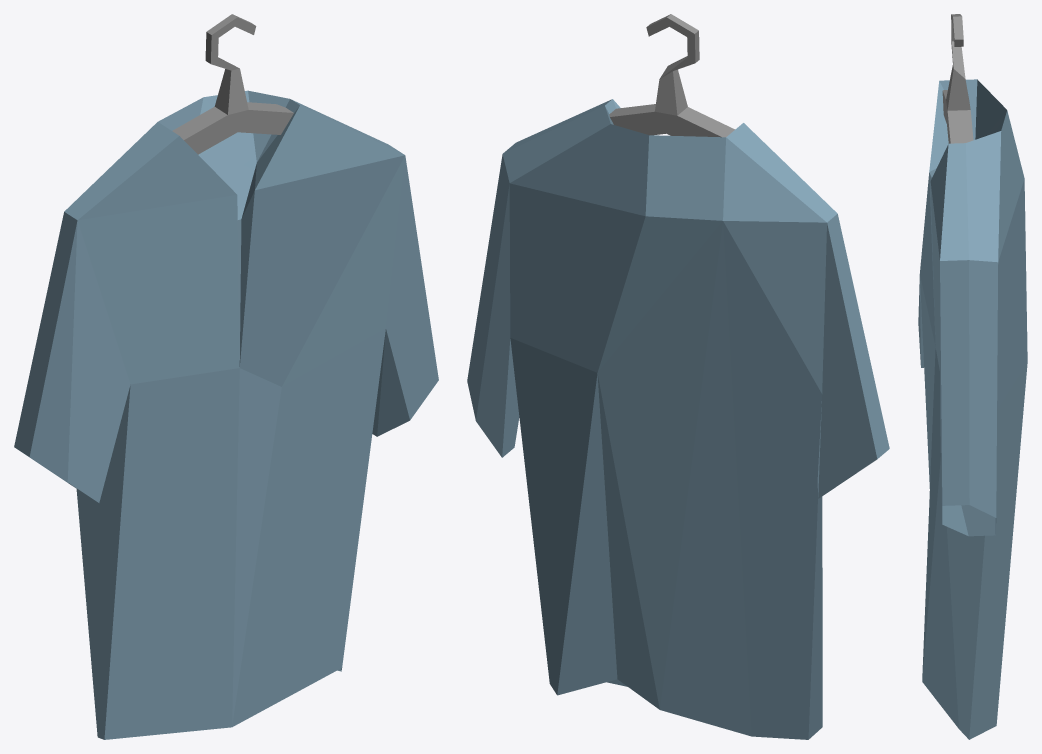
File: Cloth_1.fbx
3 views of the same model, side by side, from view 1: azimuth 30°, elevation 25°; view 2: azimuth 150°, elevation 25°; view 3: azimuth 270°, elevation 25° (orthographic). The views are drawn at different scales.
Parts seen in each view (by area): view 1: Cloth_1; view 2: Cloth_1; view 3: Cloth_1.
Boxes of the visible parts, x1=… form: Cloth_1: x1=14, y1=14, x2=438, y2=739; Cloth_1: x1=467, y1=14, x2=889, y2=739; Cloth_1: x1=918, y1=14, x2=1027, y2=739.
Bounding box in the file's own units: 66.15 × 15.68 × 107.
